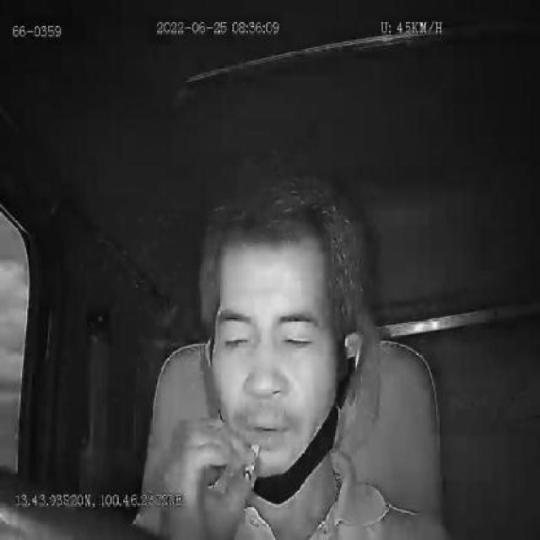smoking: (242, 443, 260, 483)
